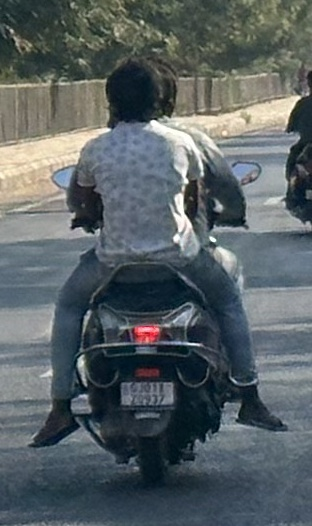BikeWithRider: (21, 44, 292, 492)
NoHelmet: (95, 53, 166, 134), (127, 48, 186, 122)
